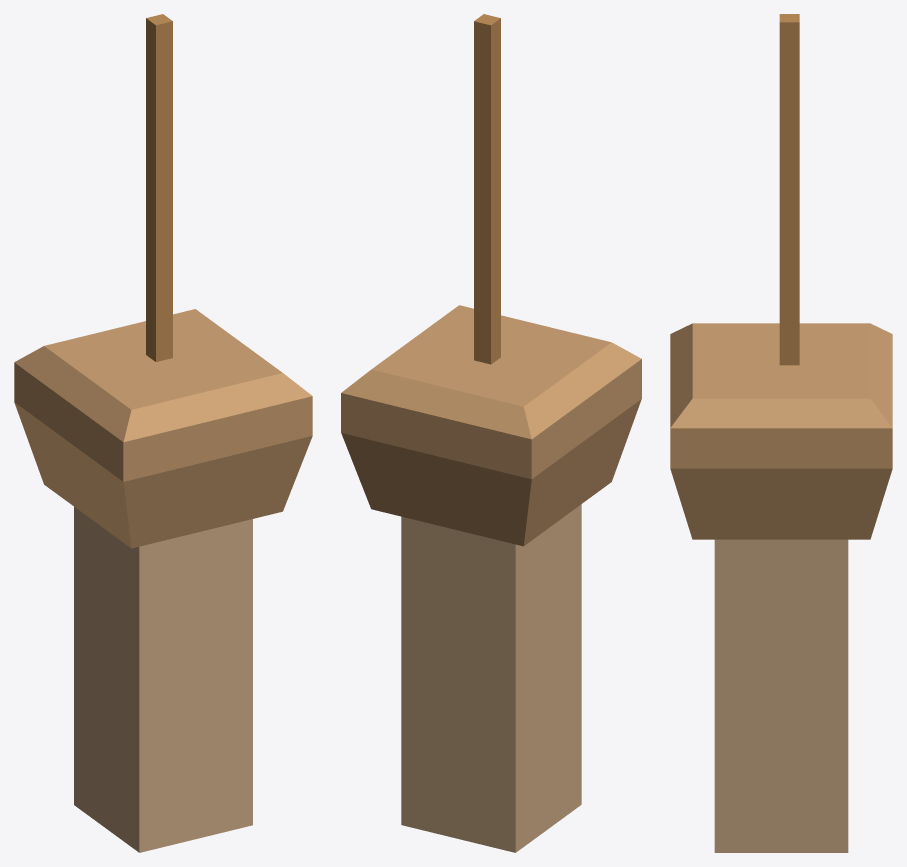
The model's file is pedistal.obj.
3 views of the same model, side by side, from view 1: azimuth 30°, elevation 25°; view 2: azimuth 150°, elevation 25°; view 3: azimuth 270°, elevation 25° (orthographic).
Parts seen in each view (by area): view 1: mergedBlocks; view 2: mergedBlocks; view 3: mergedBlocks.
Part boxes in pixels (x1,y1,x2,y2): mergedBlocks: (14, 14, 312, 852); mergedBlocks: (341, 14, 641, 852); mergedBlocks: (670, 14, 892, 852).
Size of the model in its own units: 0.5 by 2 by 0.5.
